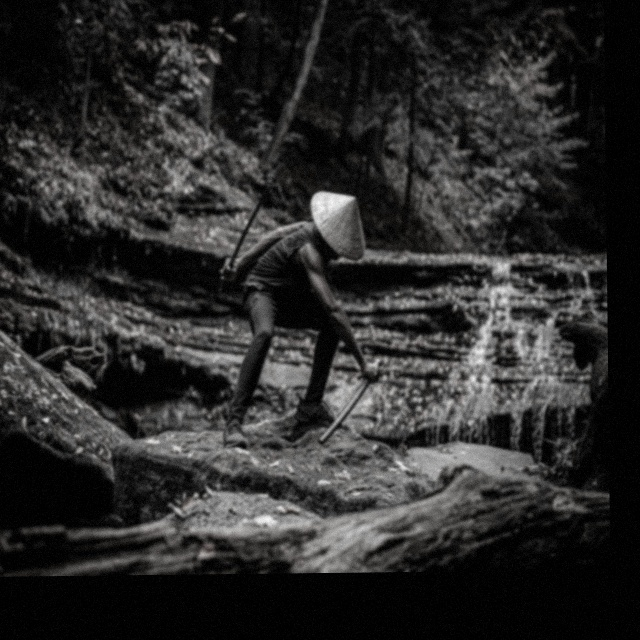Sharp-Object: (317, 357, 383, 446)
